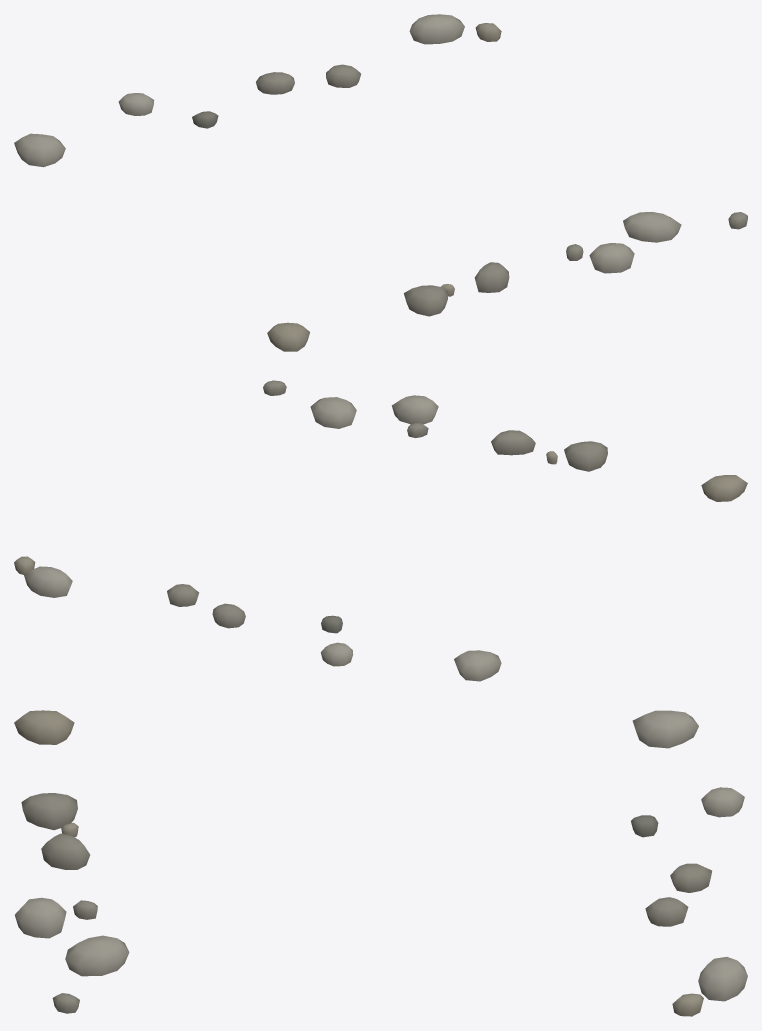
The model's file is tile_pebbles_strip_03.glb.
3 views of the same model, one above another, from view 1: azimuth 30°, elevation 25°; view 2: azimuth 150°, elevation 25°; view 3: azimuth 270°, elevation 25° (orthographic). The views are drawn at different scales.
Parts seen in each view (by area): view 1: tile_pebbles_strip_03; view 2: tile_pebbles_strip_03; view 3: tile_pebbles_strip_03.
Boxes of the visible parts, x1,y1,x2,y2 form: tile_pebbles_strip_03: (14,14,747,351); tile_pebbles_strip_03: (14,380,747,681); tile_pebbles_strip_03: (14,710,747,1016).
Size of the model in its own units: 0.9424 by 0.0363 by 1.
1 material, 1 textured.
